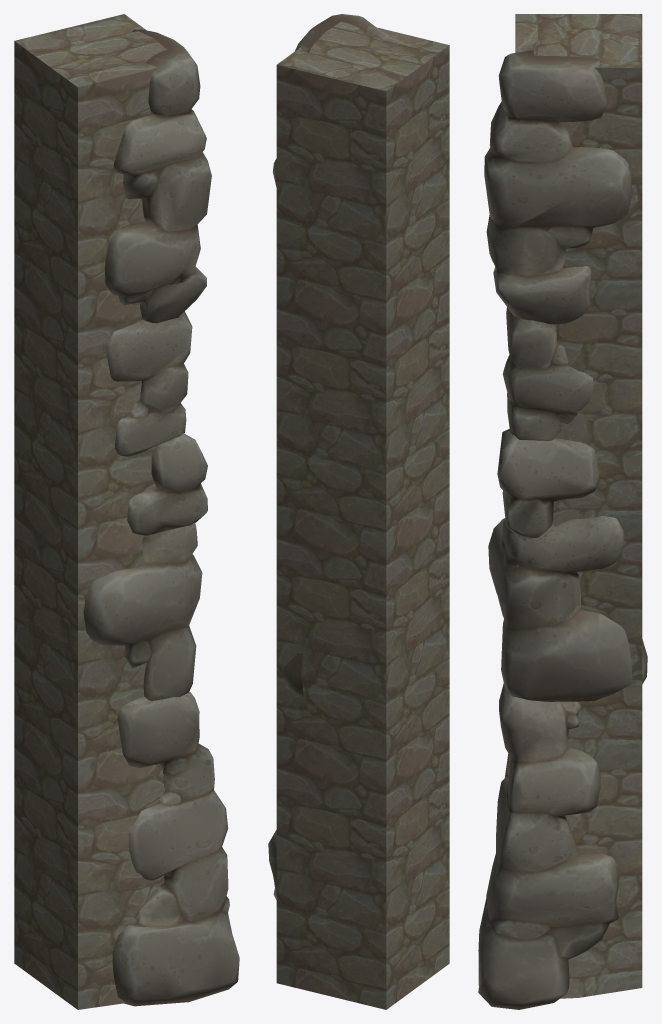
The model's file is SM_FW01_Ruins_Wall_Corner_Bot_02.fbx.
3 renders of one model, left to right at view 1: azimuth 30°, elevation 25°; view 2: azimuth 150°, elevation 25°; view 3: azimuth 270°, elevation 25°, orthographic.
Parts seen in each view (by area): view 1: SM_FW01_Ruins_Wall_Corner_Bot_02, SM_FW01_Ruins_Wall_Corner_Bot_02_LOD0; view 2: SM_FW01_Ruins_Wall_Corner_Bot_02, SM_FW01_Ruins_Wall_Corner_Bot_02_LOD0; view 3: SM_FW01_Ruins_Wall_Corner_Bot_02_LOD0, SM_FW01_Ruins_Wall_Corner_Bot_02.
Boxes of the visible parts, bbox=[...] form: SM_FW01_Ruins_Wall_Corner_Bot_02: bbox=[14, 14, 189, 1009]; SM_FW01_Ruins_Wall_Corner_Bot_02_LOD0: bbox=[83, 29, 239, 1006]; SM_FW01_Ruins_Wall_Corner_Bot_02: bbox=[276, 21, 449, 1009]; SM_FW01_Ruins_Wall_Corner_Bot_02_LOD0: bbox=[268, 14, 375, 899]; SM_FW01_Ruins_Wall_Corner_Bot_02_LOD0: bbox=[478, 50, 647, 1009]; SM_FW01_Ruins_Wall_Corner_Bot_02: bbox=[504, 14, 642, 998].
Size of what is drawn, in the model's own units: 1.4 by 8.14 by 1.33.
